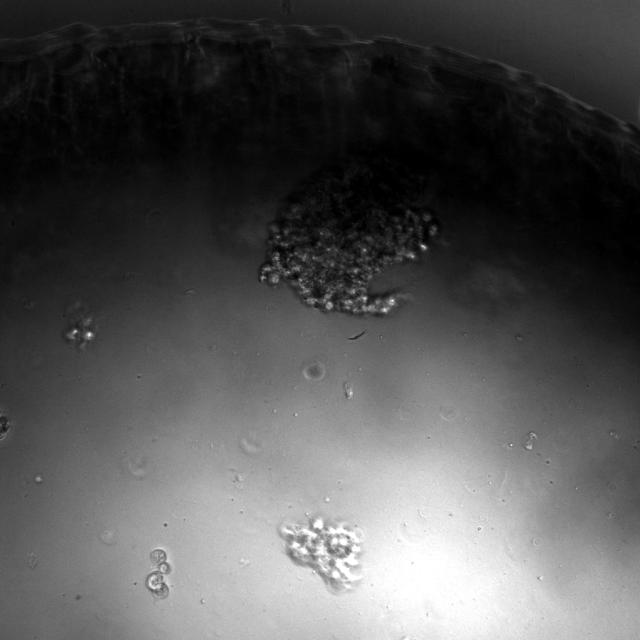organoid: (259, 154, 439, 314), (280, 517, 360, 590), (62, 302, 97, 348), (146, 548, 168, 597), (0, 414, 9, 440)
